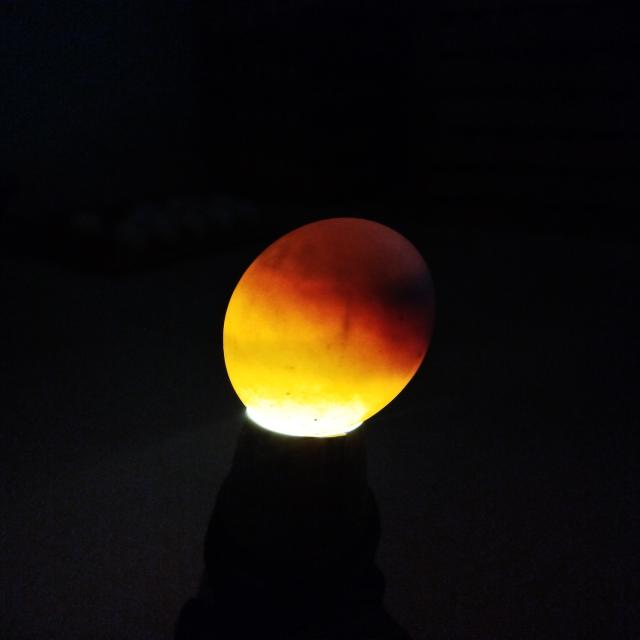Area Infectada: (359, 257, 439, 342)
